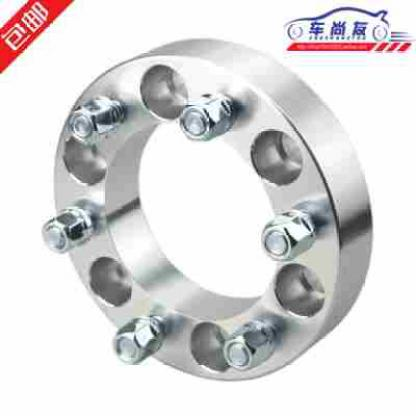FOD: (50, 32, 378, 386)
